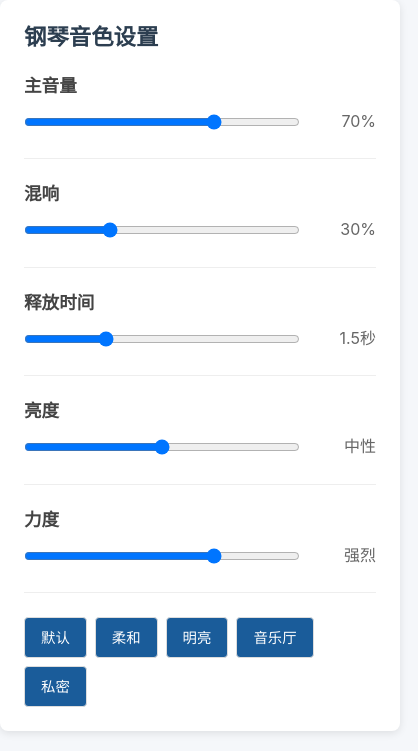
Scenario: SoundSettings 组件 › 力度值应显示相应的文本描述
Set the slider next to "强烈" to "0.2" at (84, 556), box [24, 548, 300, 564]
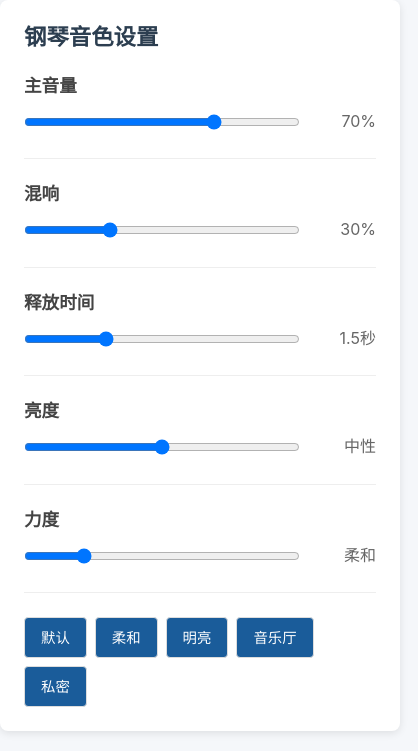
Now the text "柔和" is shown, box [344, 545, 376, 565]
Set the slider below "力度" to "0.5" at (162, 556), box [24, 548, 300, 564]
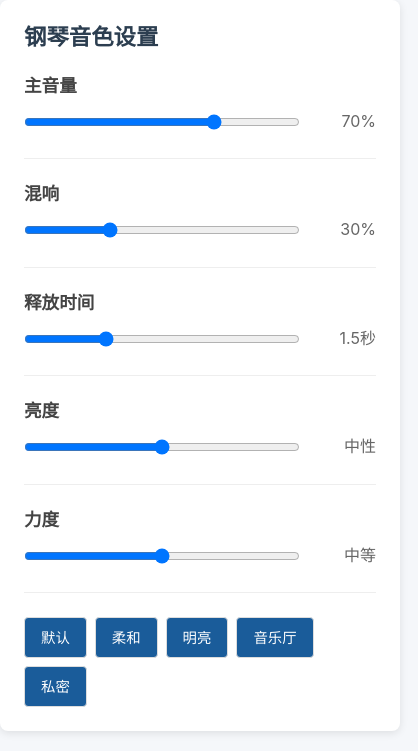
Now the text "中等" is shown, box [344, 545, 376, 565]
Set the slider next to "中等" to "0.8" at (240, 556), box [24, 548, 300, 564]
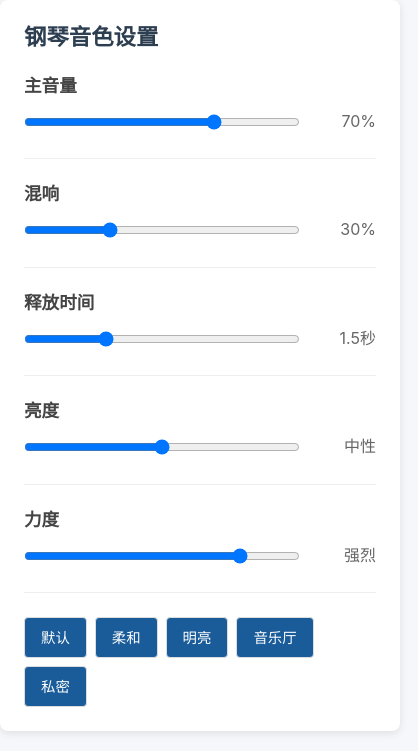
Now the text "强烈" is shown, box [344, 545, 376, 565]
